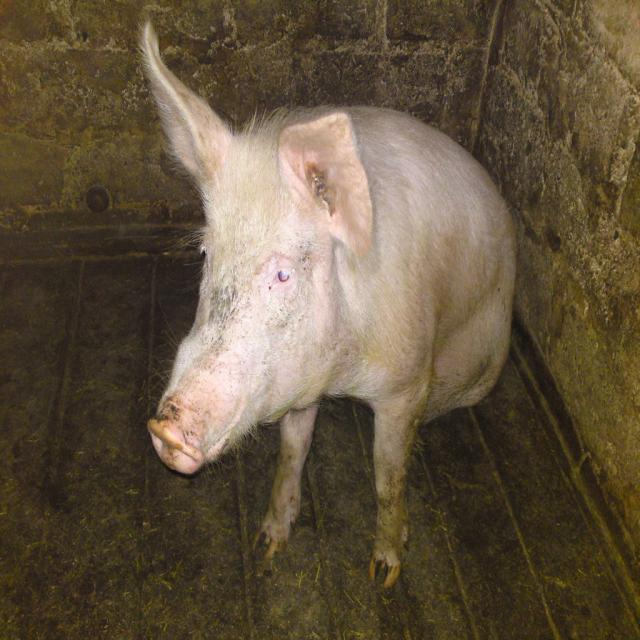Pig: (138, 8, 520, 589)
